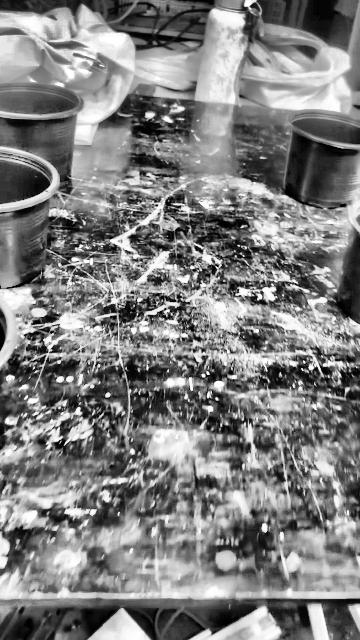pot: (0, 82, 83, 207), (0, 147, 59, 289), (287, 110, 360, 207), (337, 191, 359, 324)
